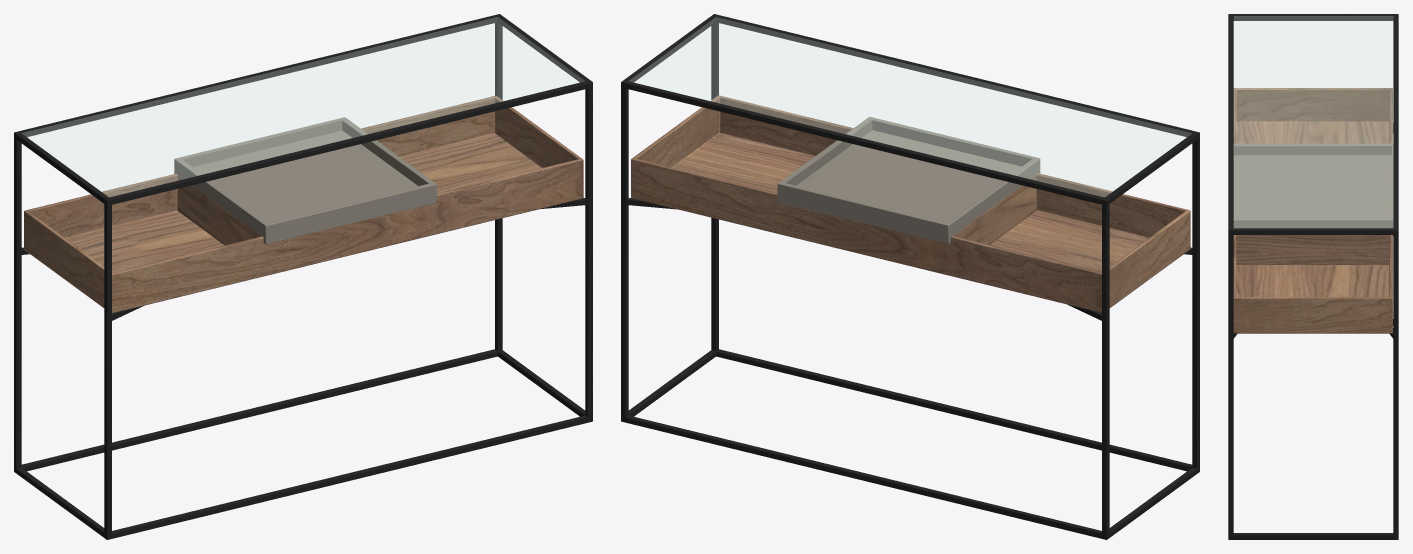
File: abo-B072ZNMKGM.glb
3 renders of one model, left to right at view 1: azimuth 30°, elevation 25°; view 2: azimuth 150°, elevation 25°; view 3: azimuth 270°, elevation 25°, orthographic. The views are drawn at different scales.
Size of the model in its own units: 1.2 by 0.8 by 0.399.
Materials: 1 (1 with a texture image).
